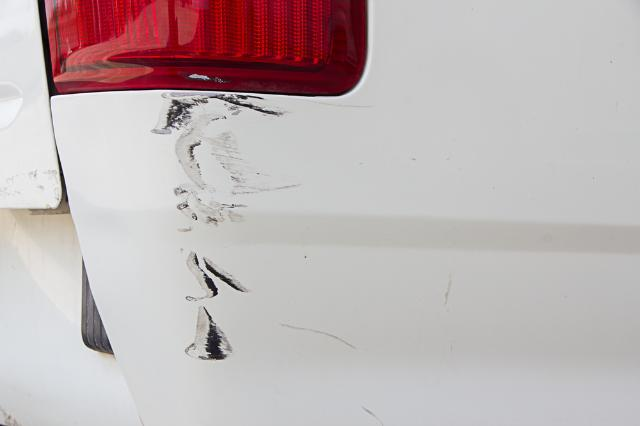scratch: (144, 87, 307, 365)
